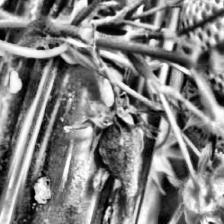Gray Mold: (86, 84, 166, 198)
